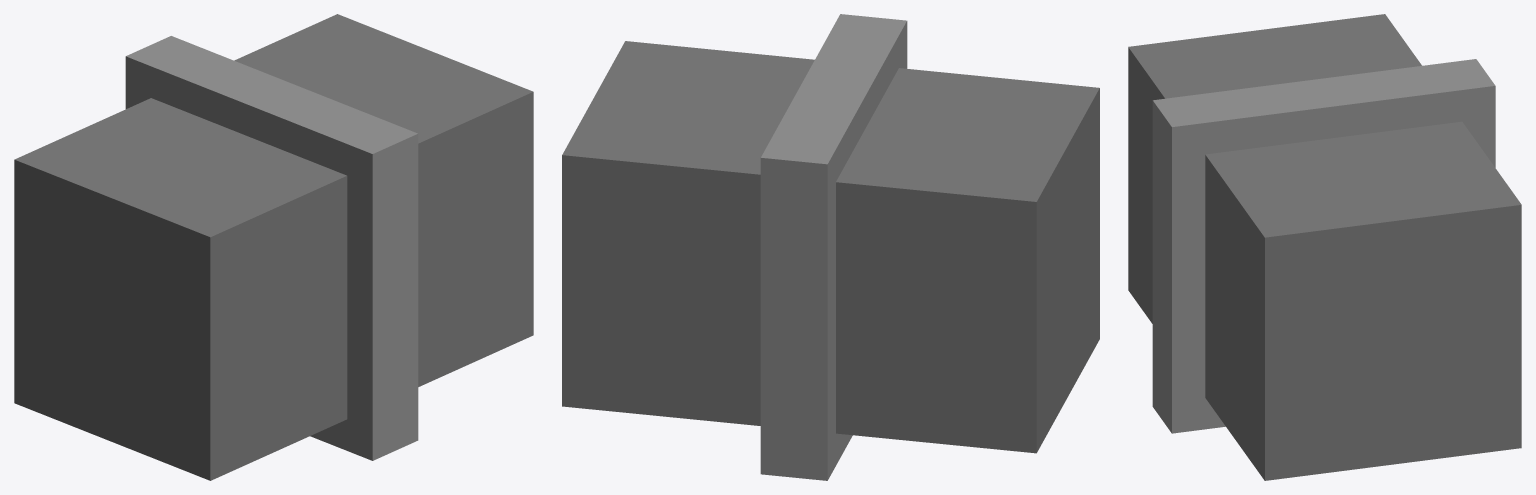
File: Building Vent 1.fbx
The picture shows the model from 3 angles, left to right: view 1: azimuth 30°, elevation 25°; view 2: azimuth 150°, elevation 25°; view 3: azimuth 270°, elevation 25°; orthographic projection. The views are drawn at different scales.
Parts seen in each view (by area): view 1: Building Vent 1; view 2: Building Vent 1; view 3: Building Vent 1.
Part boxes in pixels (x1,y1,x2,y2): Building Vent 1: [14, 14, 533, 480]; Building Vent 1: [562, 14, 1099, 480]; Building Vent 1: [1128, 14, 1521, 480].
Size of the model in its own units: 213 by 158 by 136.
